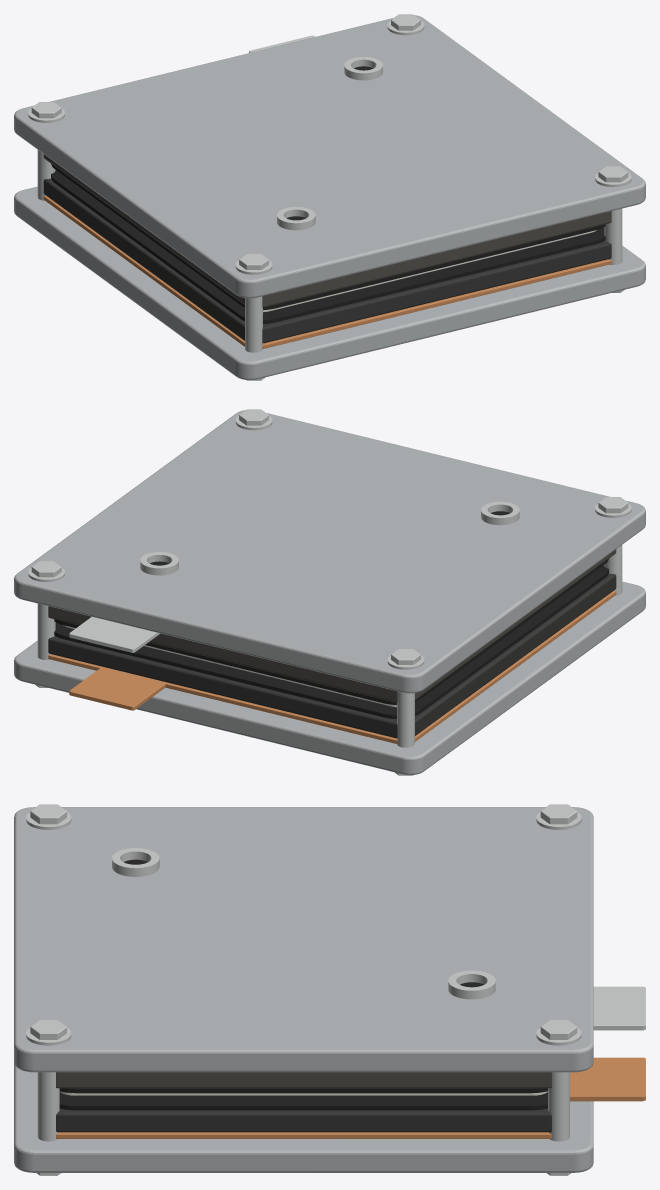
File: pem-pem.glb
3 views of the same model, one above another, from view 1: azimuth 30°, elevation 25°; view 2: azimuth 150°, elevation 25°; view 3: azimuth 270°, elevation 25° (orthographic). The views are drawn at different scales.
Visible parts, largest first — view 1: Positive_endplate, Negative_endplate, Anode_flow_plate, MEA_gasket, Cathode_flow_plate, Negative_collector.019, MEA_gasket.001, Compression_bolt, Compression_bolt.002, Gas_port_collar.001, Gas_port_collar, Electrolyte_membrane; view 2: Positive_endplate, Negative_endplate, Anode_flow_plate, MEA_gasket, Cathode_flow_plate, Negative_collector.019, Collector_connection_lug, Collector_connection_lug.001, MEA_gasket.001, Compression_bolt.001, Compression_bolt.003, Gas_port_collar.001 (+2 smaller); view 3: Positive_endplate, Negative_endplate, Anode_flow_plate, Cathode_flow_plate, MEA_gasket, Negative_collector.019, Collector_connection_lug, MEA_gasket.001, Collector_connection_lug.001, Electrolyte_membrane, Compression_bolt.002, Compression_bolt.003 (+6 smaller).
Boxes of the visible parts, x1,y1,x2,y2 form: Positive_endplate: [14, 15, 645, 298]; Negative_endplate: [14, 186, 645, 379]; Anode_flow_plate: [43, 178, 611, 343]; MEA_gasket: [51, 170, 605, 323]; Cathode_flow_plate: [43, 154, 611, 307]; Negative_collector.019: [43, 196, 611, 348]; MEA_gasket.001: [51, 164, 605, 309]; Compression_bolt: [245, 296, 262, 352]; Compression_bolt.002: [604, 208, 622, 264]; Gas_port_collar.001: [344, 57, 382, 80]; Gas_port_collar: [277, 207, 315, 230]; Electrolyte_membrane: [263, 230, 596, 312]; Positive_endplate: [14, 410, 645, 693]; Negative_endplate: [14, 581, 645, 774]; Anode_flow_plate: [48, 573, 616, 738]; MEA_gasket: [54, 565, 608, 718]; Cathode_flow_plate: [48, 549, 616, 702]; Negative_collector.019: [48, 591, 616, 743]; Collector_connection_lug: [69, 666, 165, 710]; Collector_connection_lug.001: [69, 617, 160, 652]; MEA_gasket.001: [54, 559, 608, 704]; Compression_bolt.001: [397, 691, 414, 747]; Compression_bolt.003: [37, 603, 55, 659]; Gas_port_collar.001: [140, 552, 178, 575]; Positive_endplate: [14, 807, 593, 1072]; Negative_endplate: [14, 1063, 593, 1172]; Anode_flow_plate: [56, 1108, 551, 1132]; Cathode_flow_plate: [56, 1072, 551, 1088]; MEA_gasket: [59, 1092, 547, 1110]; Negative_collector.019: [56, 1132, 551, 1138]; Collector_connection_lug: [570, 1057, 645, 1101]; MEA_gasket.001: [59, 1088, 547, 1093]; Collector_connection_lug.001: [593, 986, 645, 1030]; Electrolyte_membrane: [59, 1091, 547, 1095]; Compression_bolt.002: [37, 1072, 59, 1141]; Compression_bolt.003: [548, 1072, 569, 1141].
Size of the model in its own units: 0.07 by 0.019 by 0.0763.
